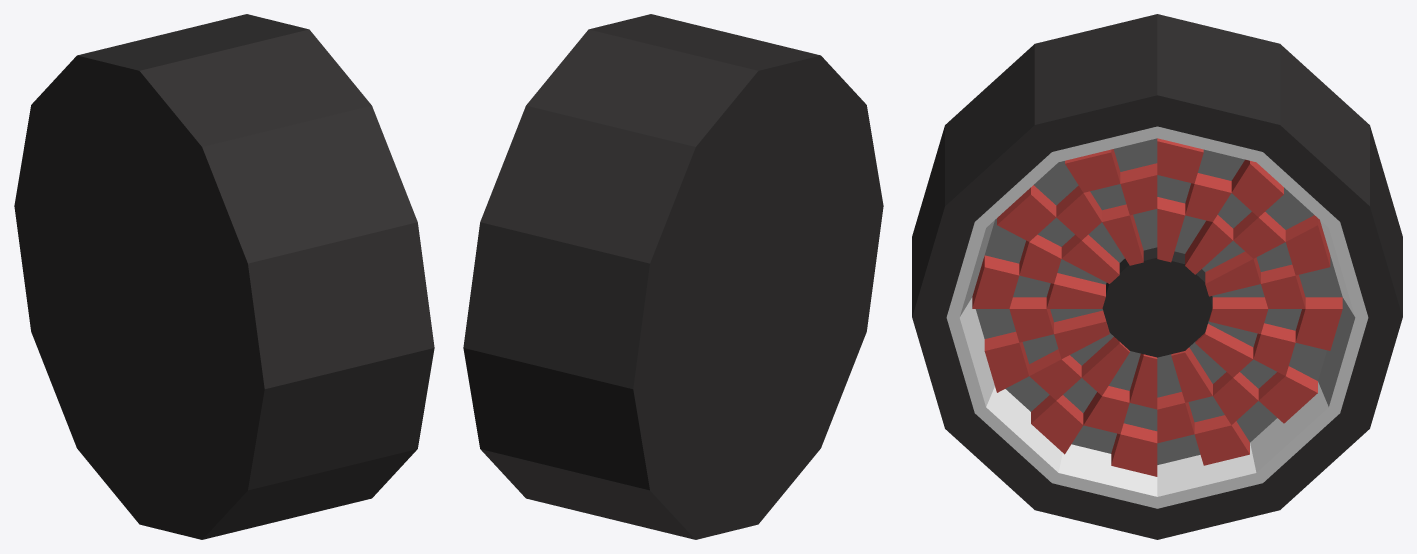
File: SportWheel.dae
3 views of the same model, side by side, from view 1: azimuth 30°, elevation 25°; view 2: azimuth 150°, elevation 25°; view 3: azimuth 270°, elevation 25° (orthographic). The views are drawn at different scales.
Parts seen in each view (by area): view 1: Cylinder; view 2: Cylinder; view 3: Cylinder.
Boxes of the visible parts, <box> form: Cylinder: <box>14,14,434,539</box>; Cylinder: <box>463,14,883,539</box>; Cylinder: <box>912,14,1402,539</box>.
Bounding box in the file's own units: 0.7838 × 2 × 2.
